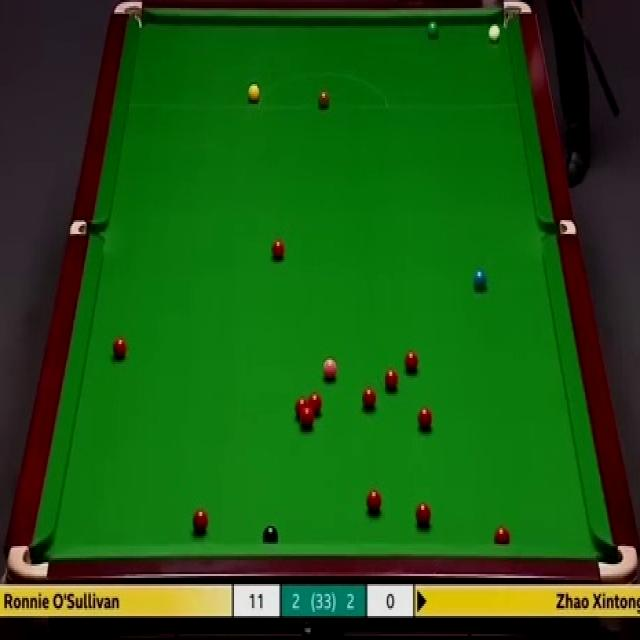pocket: (7, 545, 49, 583), (597, 544, 637, 582), (111, 0, 146, 31), (502, 0, 532, 31), (68, 220, 107, 237), (541, 220, 575, 237)
